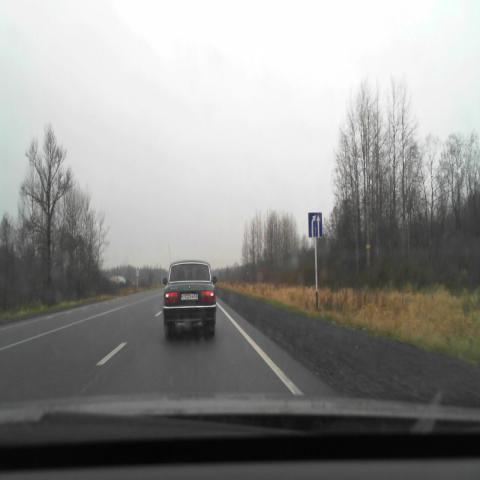5_15_5: (308, 212, 322, 237)
